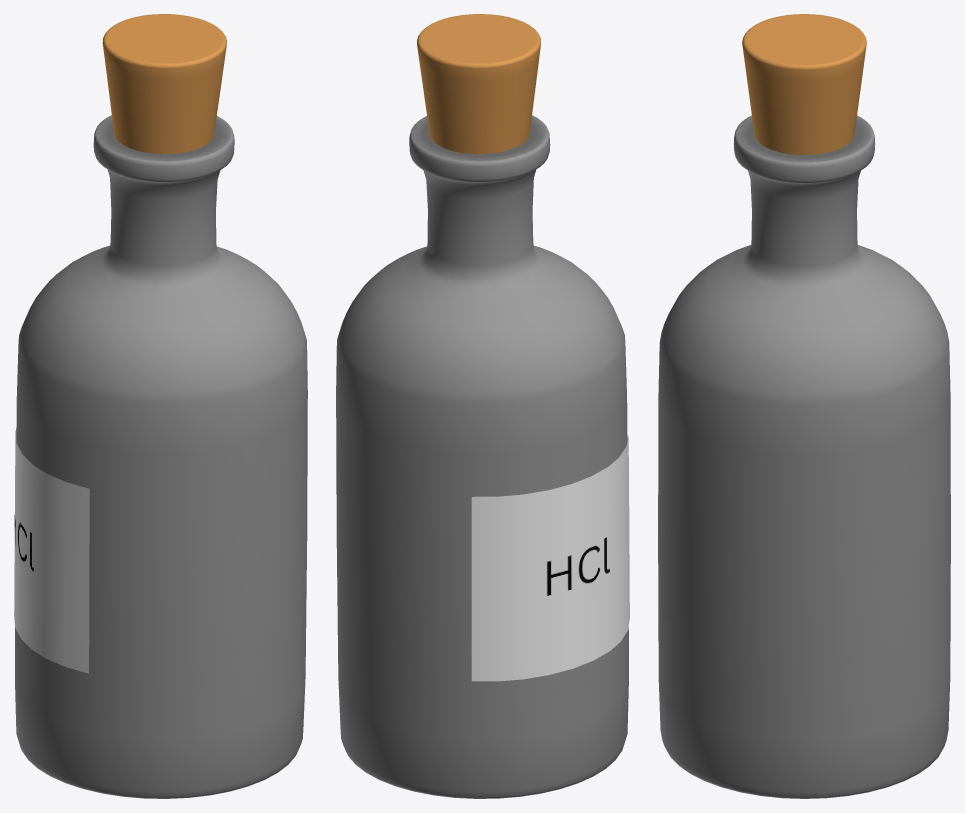
The model's file is HCl.fbx.
The picture shows the model from 3 angles, left to right: view 1: azimuth 30°, elevation 25°; view 2: azimuth 150°, elevation 25°; view 3: azimuth 270°, elevation 25°; orthographic projection.
Parts seen in each view (by area): view 1: Bttle001_Bttle_0; view 2: Bttle001_Bttle_0; view 3: Bttle001_Bttle_0.
Part boxes in pixels (box(x1,y1,x2,y2)): Bttle001_Bttle_0: box(14, 14, 307, 798); Bttle001_Bttle_0: box(336, 14, 629, 798); Bttle001_Bttle_0: box(658, 14, 950, 798).
Bounding box in the file's own units: 11.44 × 30.04 × 11.35.
4 materials, 2 textured.
